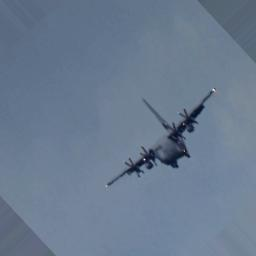Airplane: (102, 86, 216, 190)
